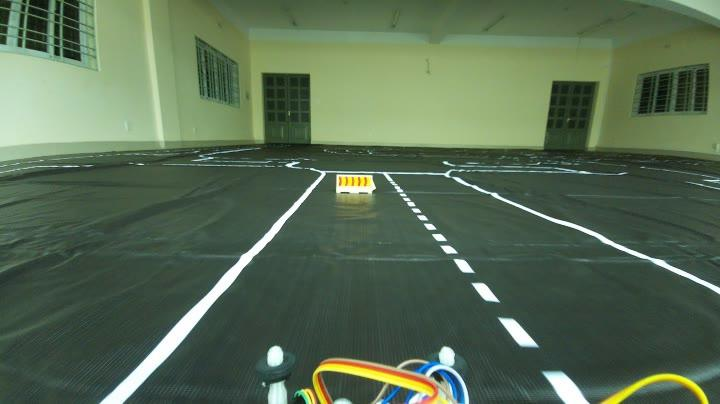roadblock: (331, 165, 383, 201)
